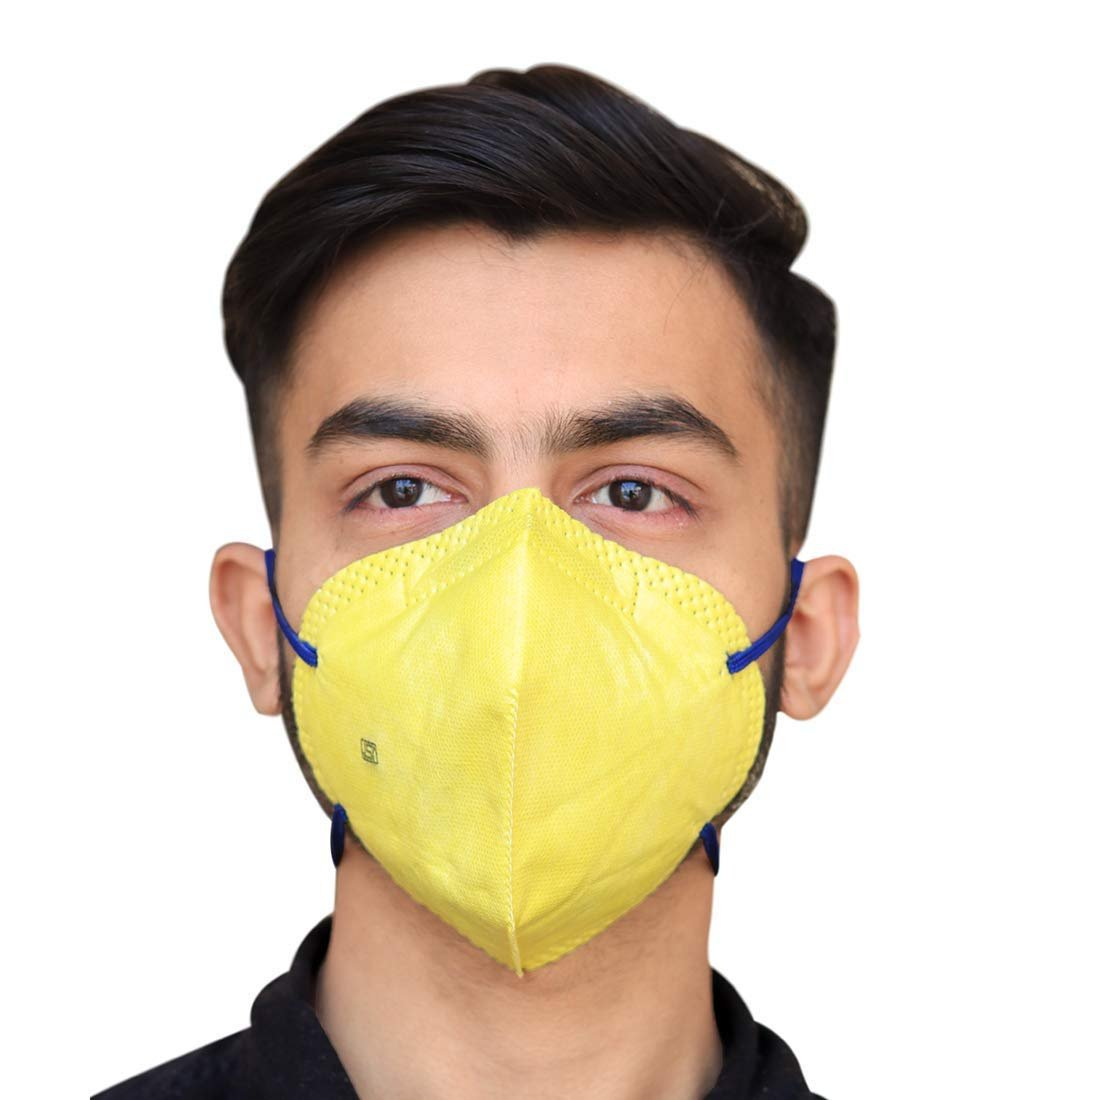mask: (168, 69, 921, 976)
